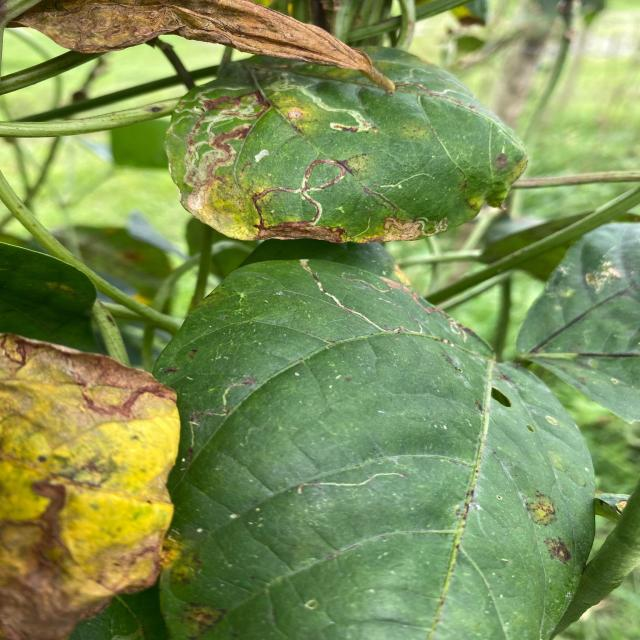leaf-moderate: (0, 333, 180, 640)
sitaw-aphid-high: (155, 240, 595, 640)
sitaw-aphid-low: (165, 47, 527, 242)
